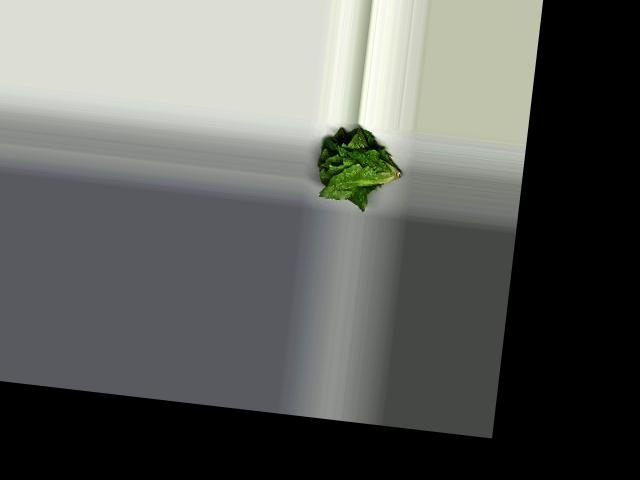lettuce: (309, 123, 410, 207)
